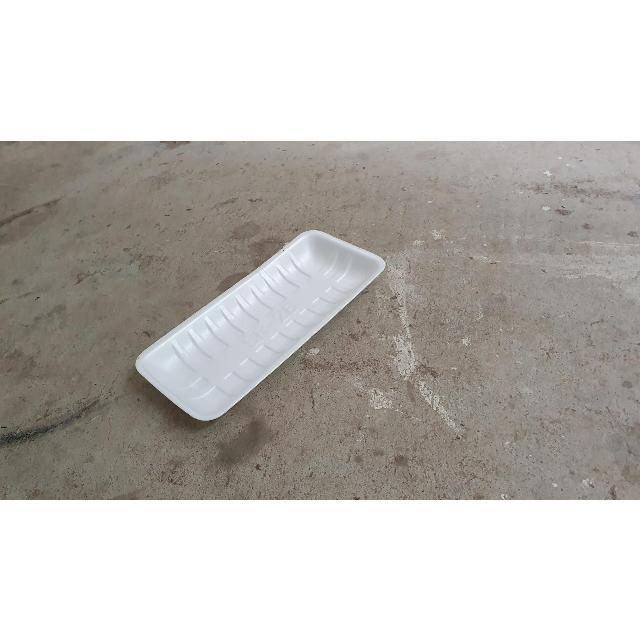Recipiente plastico: (136, 231, 384, 421)
